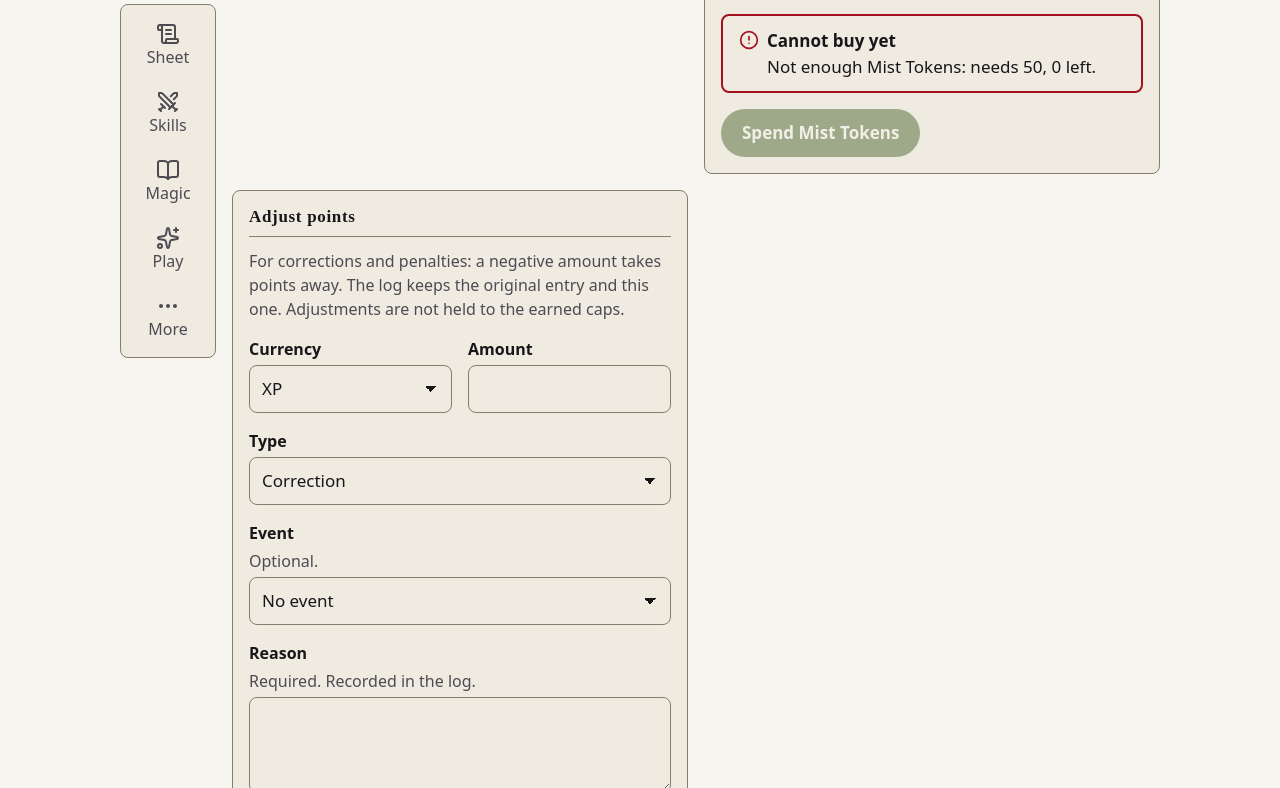
Test: points › adjust: needs a non-zero amount and a reason
(page scrolled)
Type "0" into the field labelled "Amount". click: (570, 389)
box: top-left (468, 365), bottom-right (671, 413)
(page scrolled)
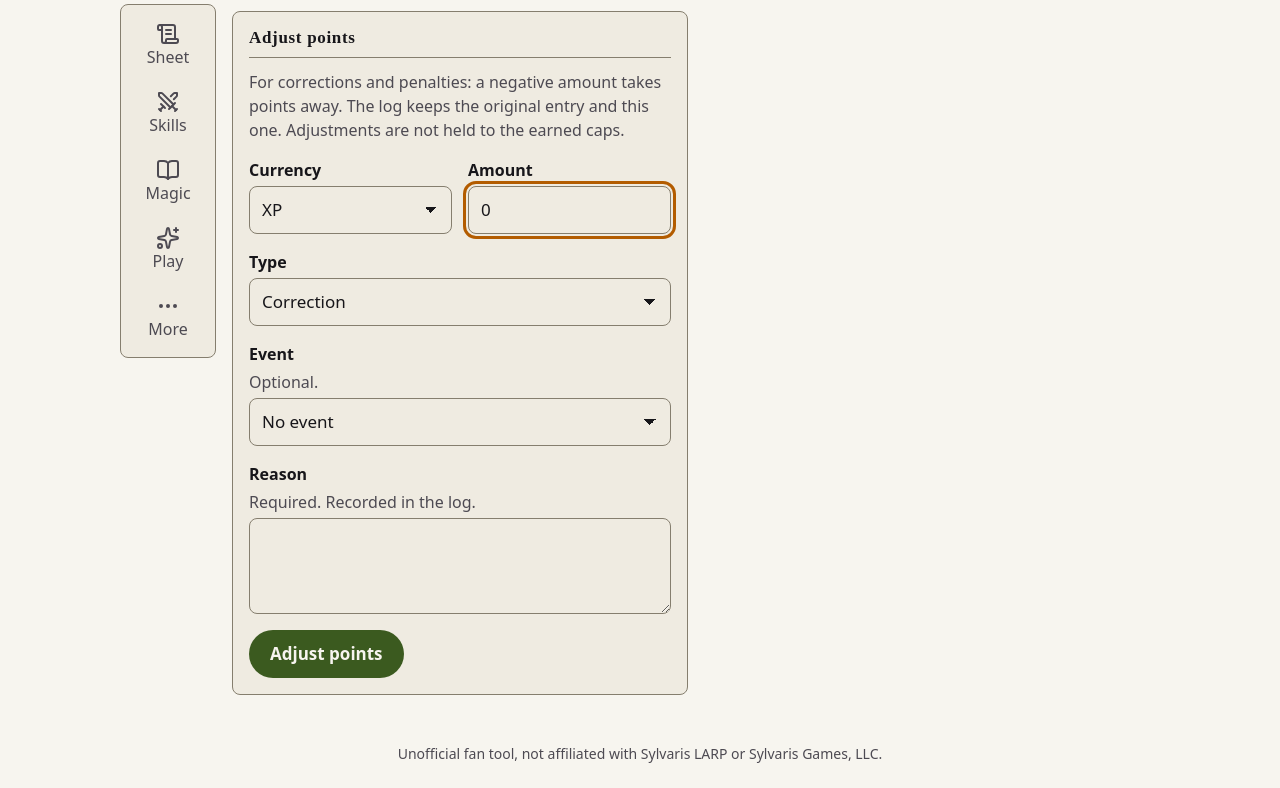
Click the button "Adjust points". click: (326, 654)
box: top-left (249, 630), bottom-right (404, 678)
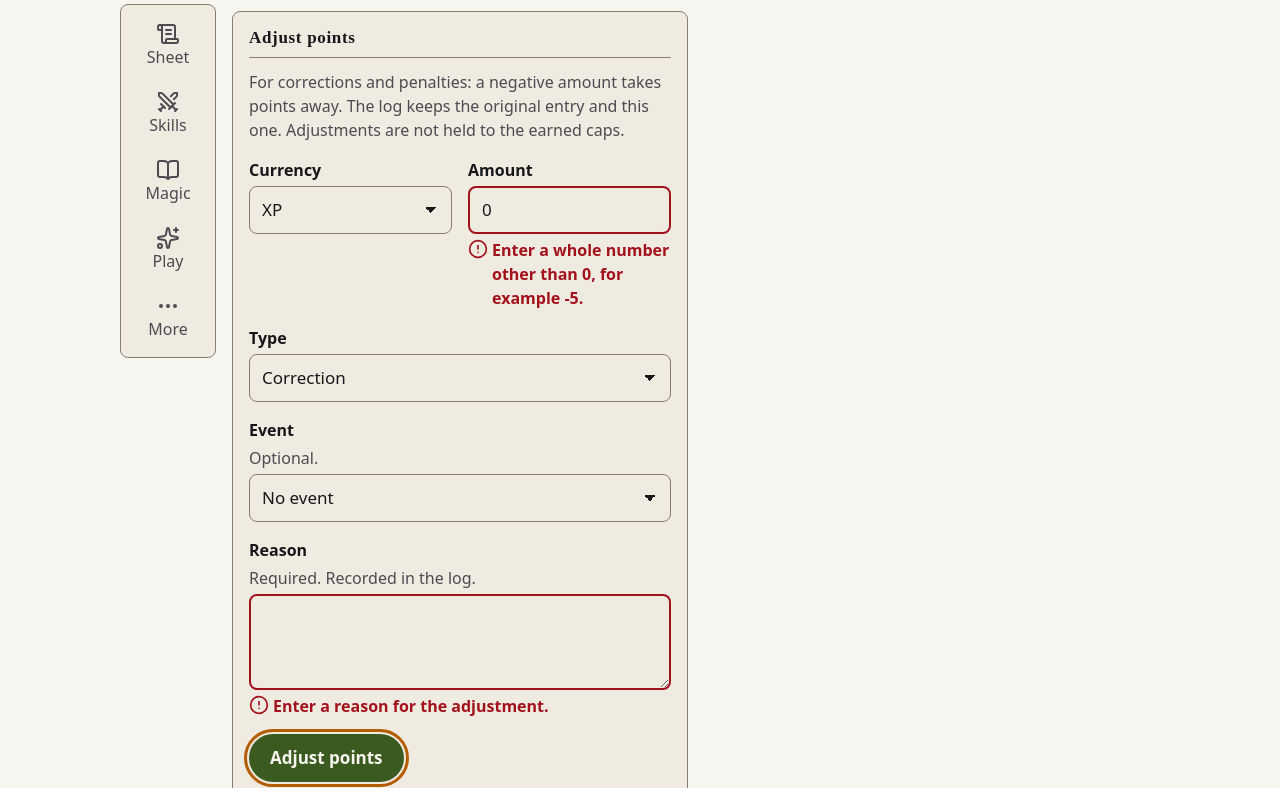
Expected: the text "Enter a whole number other than 0, for example -5." is shown, top-left (492, 238), bottom-right (671, 310)
Expected: the text "Enter a reason for the adjustment." is shown, top-left (273, 694), bottom-right (549, 718)
Replace the text in the field labelled "Amount" with "-20". click: (570, 210)
box: top-left (468, 186), bottom-right (671, 234)
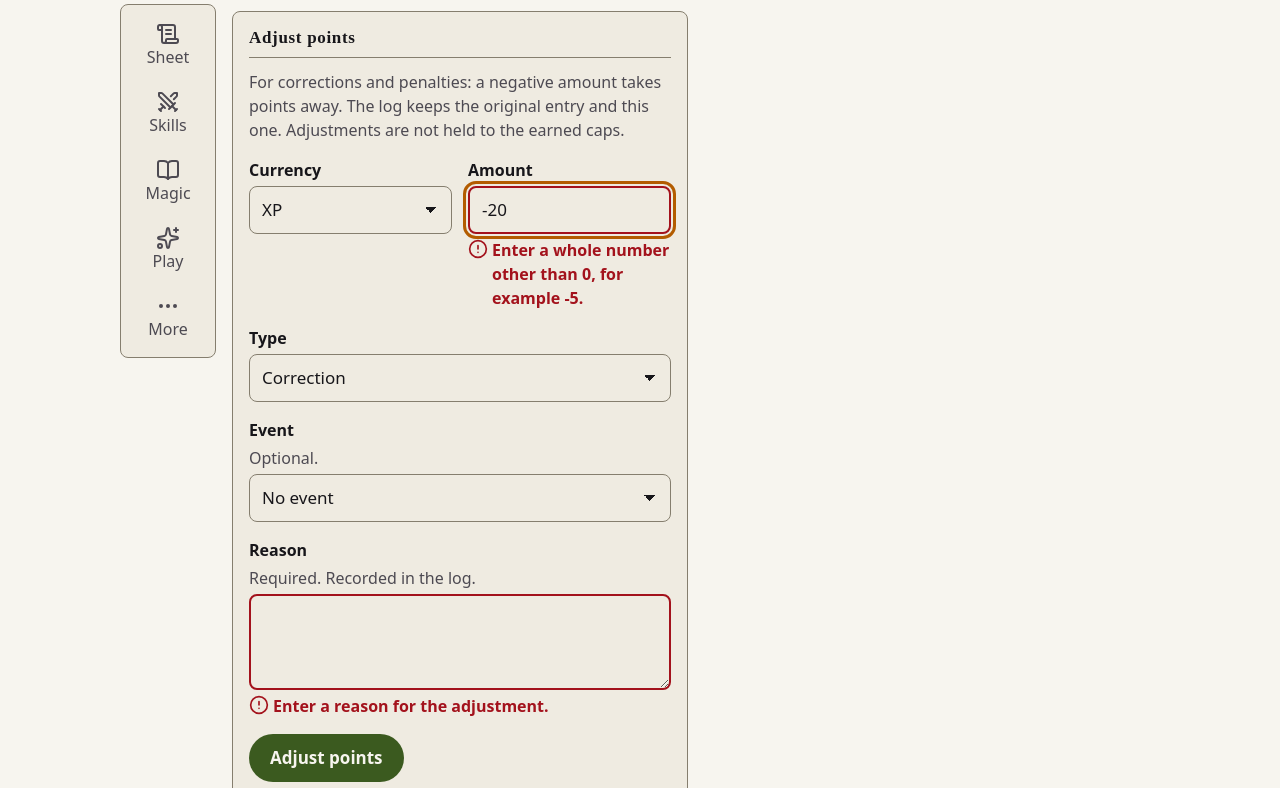
Select "Penalty" in the dropdown labelled "Type". click: (460, 378)
box: top-left (249, 354), bottom-right (671, 402)
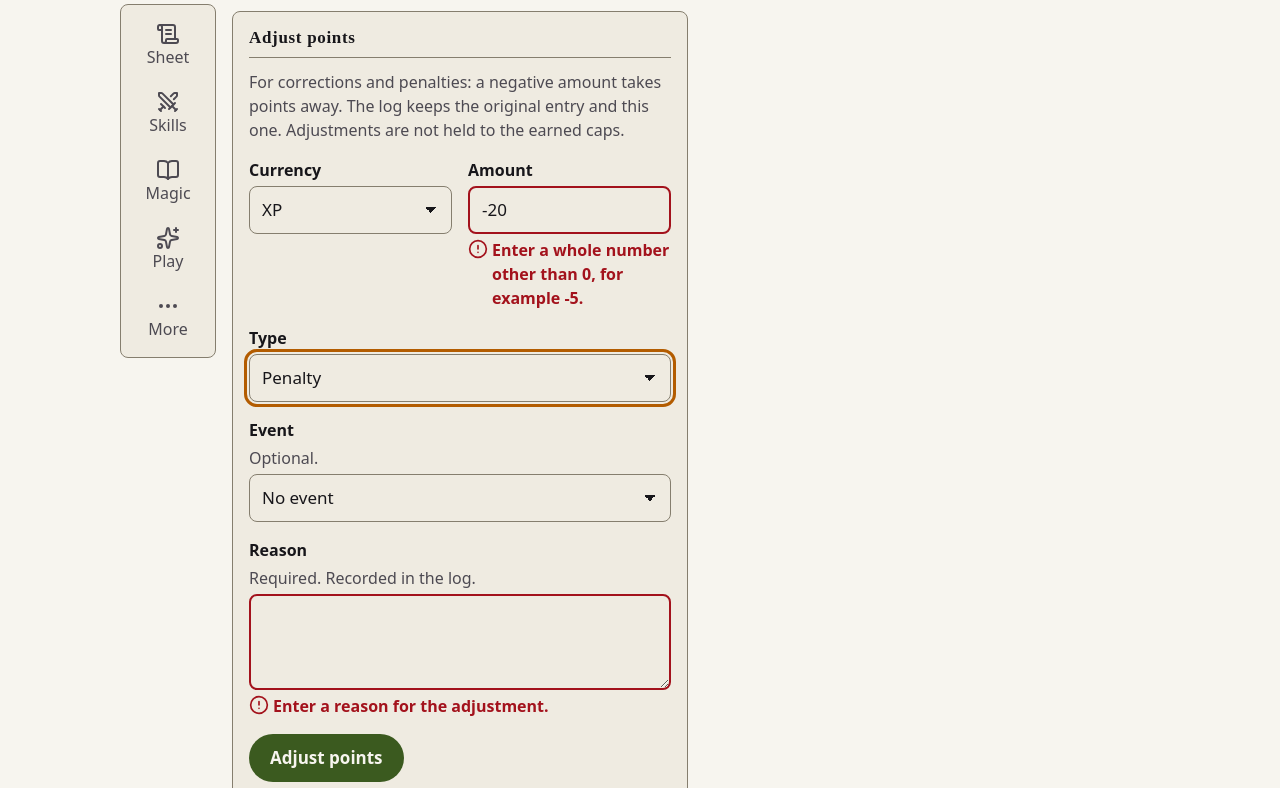
Type "Second strike" into the text box labelled "Reason". click: (460, 642)
box: top-left (249, 594), bottom-right (671, 690)
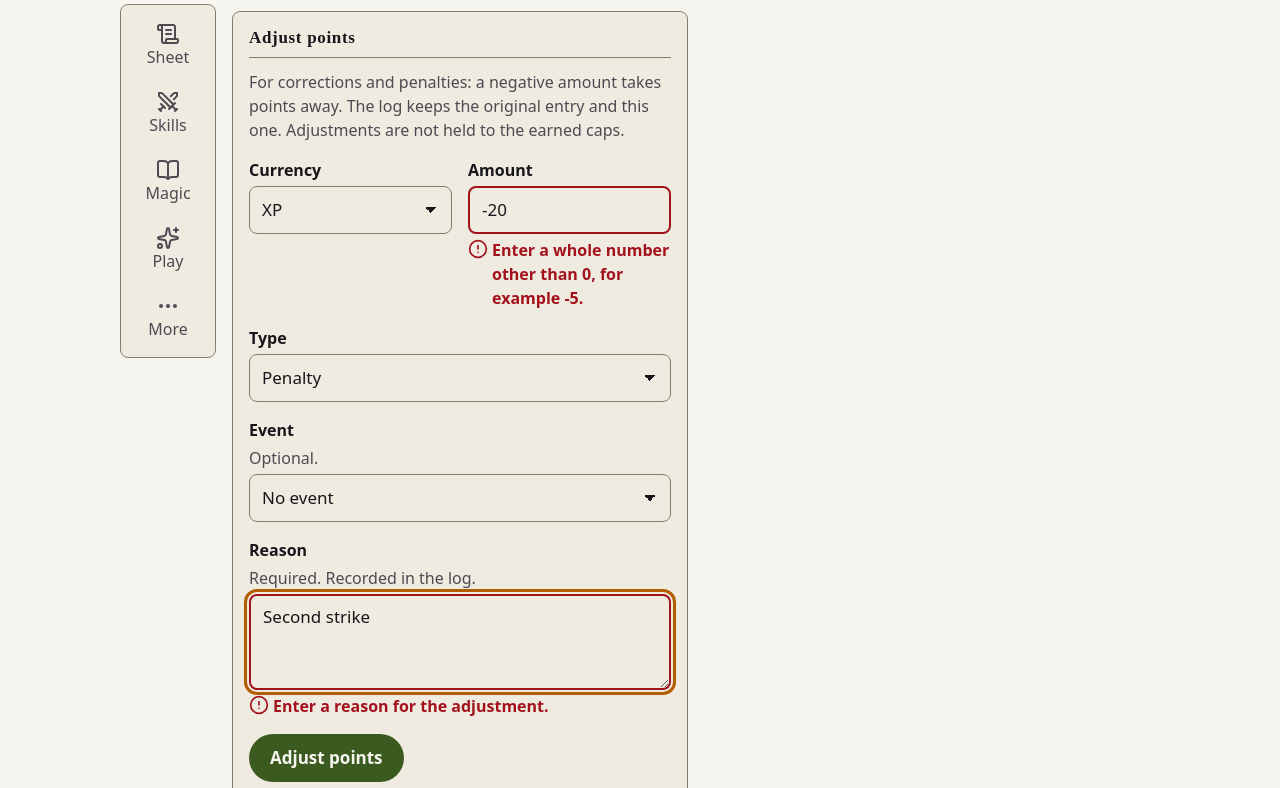
Click the button "Adjust points". click: (326, 758)
box: top-left (249, 734), bottom-right (404, 782)
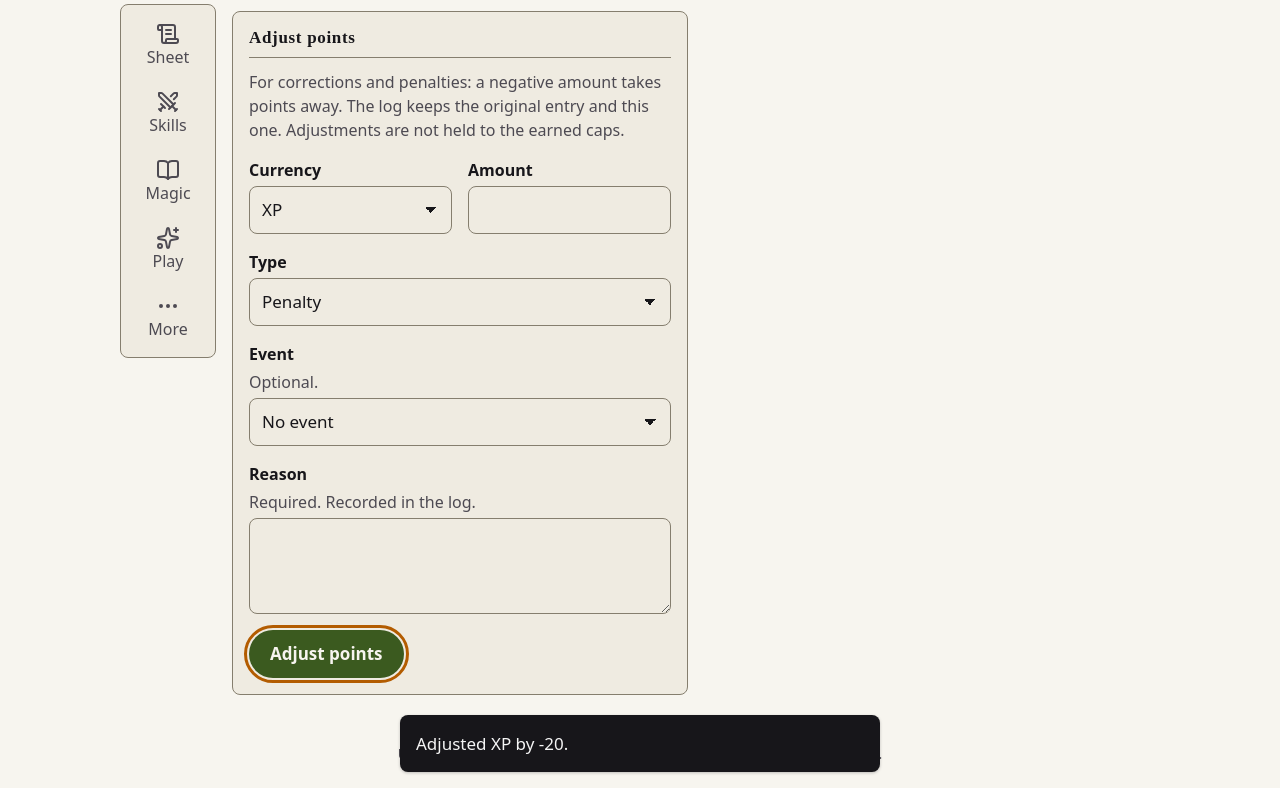
Expected: the text "Adjusted XP by -20." is shown, top-left (416, 732), bottom-right (568, 754)
